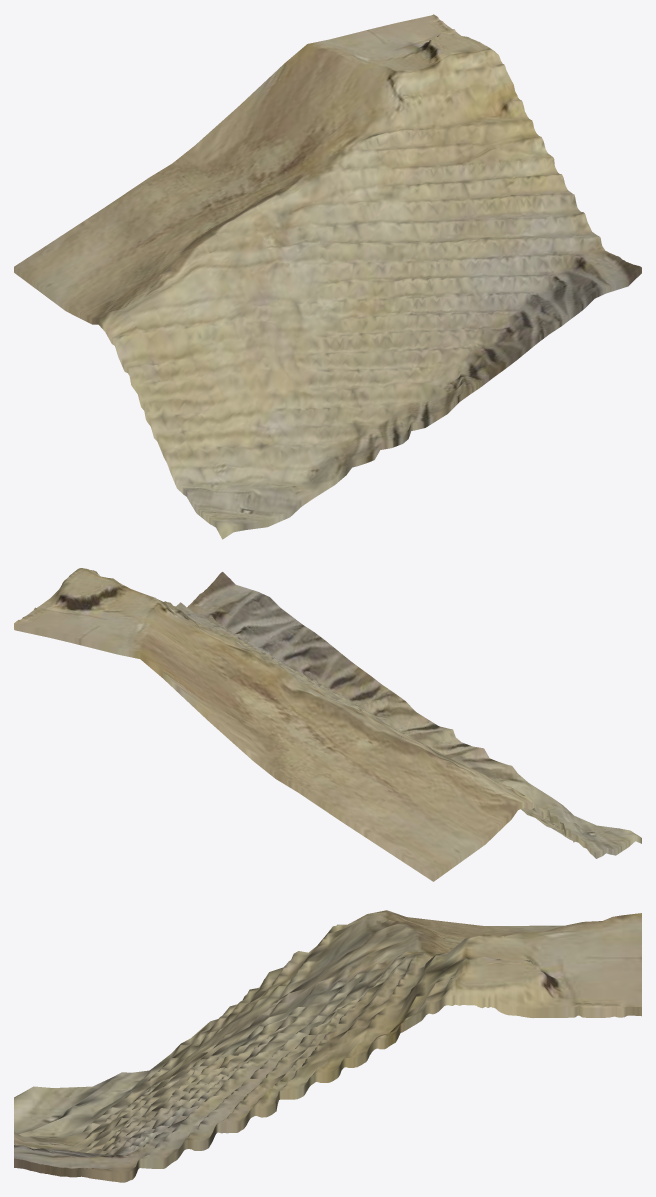
The picture shows the model from 3 angles, top to bottom: view 1: azimuth 30°, elevation 25°; view 2: azimuth 150°, elevation 25°; view 3: azimuth 270°, elevation 25°; orthographic projection. The views are drawn at different scales.
Visible parts, largest first — view 1: l1-3-3; view 2: l1-3-3; view 3: l1-3-3.
Boxes of the visible parts, x1,y1,x2,y2 form: l1-3-3: (14, 14, 641, 539); l1-3-3: (14, 568, 641, 881); l1-3-3: (14, 910, 641, 1182).
Size of the model in its own units: 595 by 383 by 512.
1 material, 1 textured.
